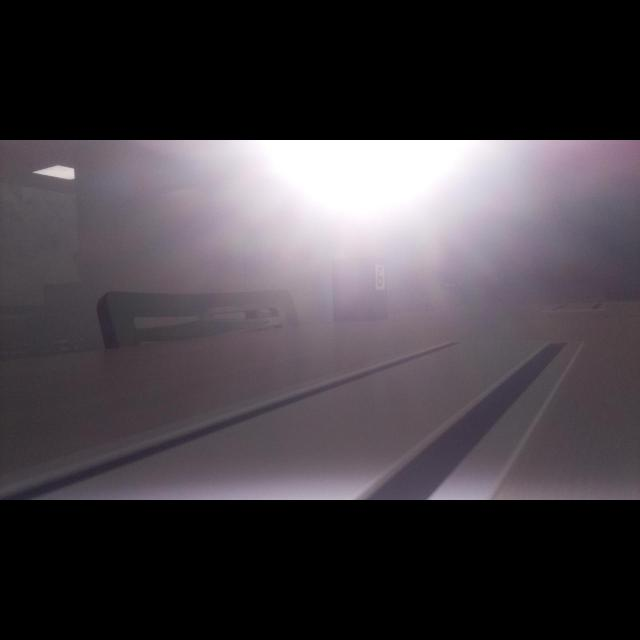G: (377, 266, 383, 286)
